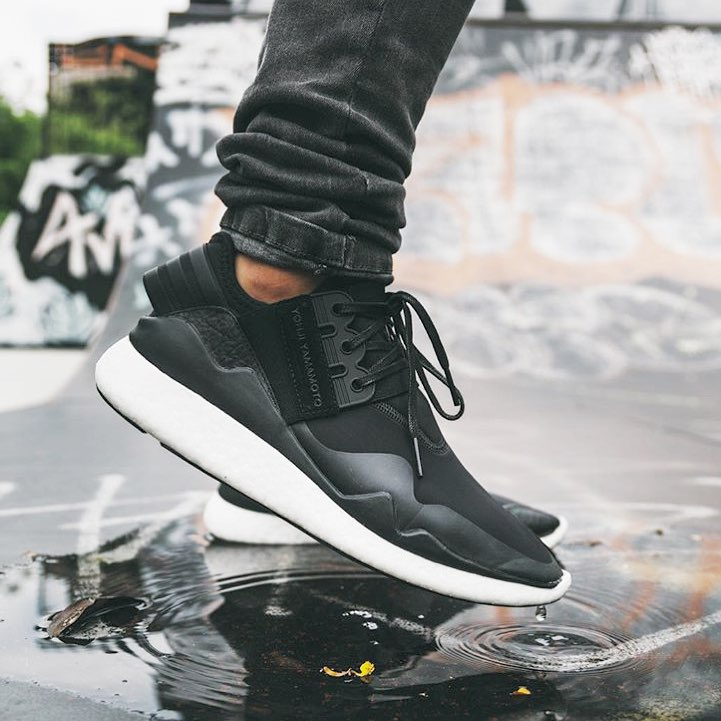sneaker: (63, 213, 588, 628)
